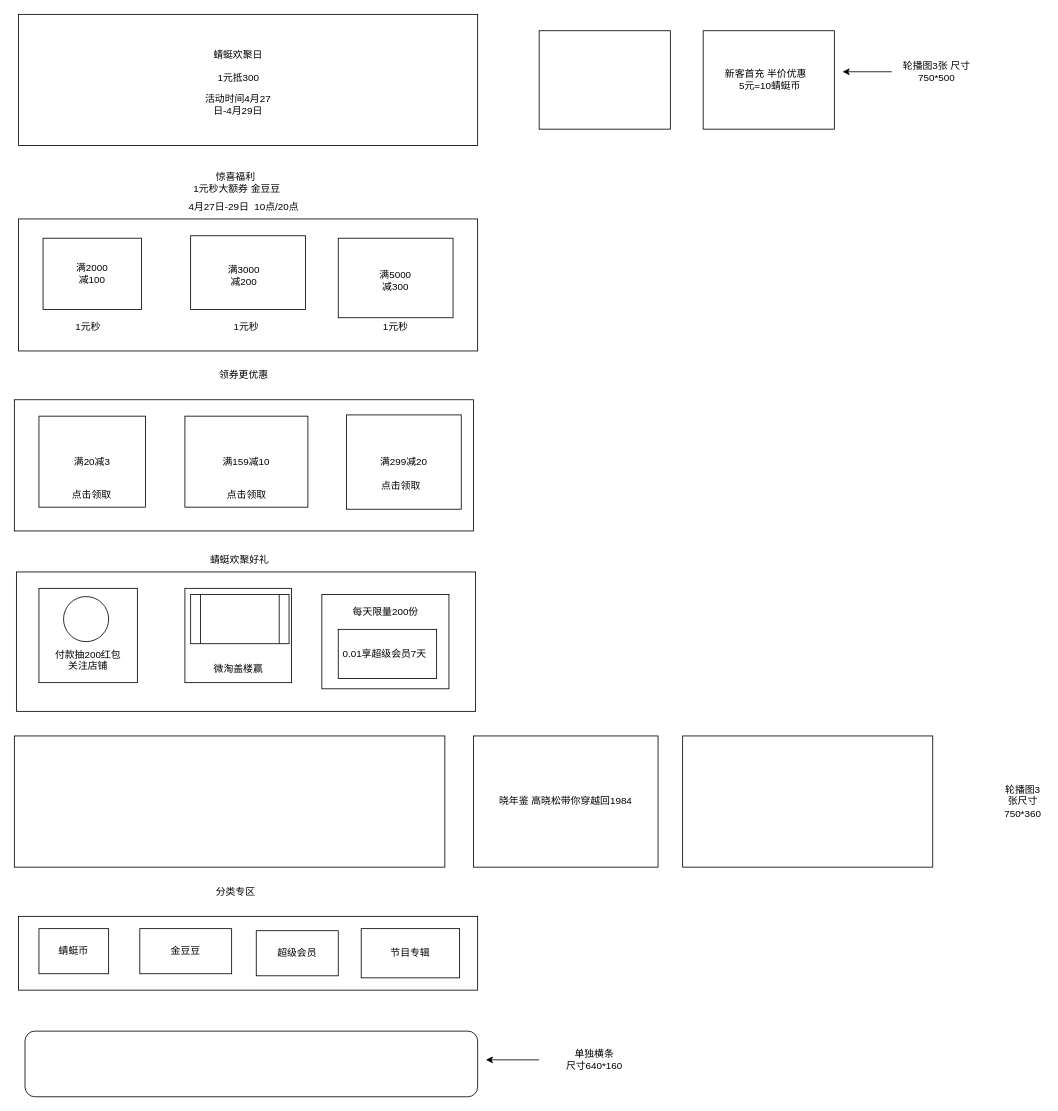
This 1058x1111 diagram has some shape labels left out. Here are the shapes that lost their labels. From the top down, the centre of each, then its label:
At (604,79): "参照法医秦明焦点图改尺寸即可".
At (86,619): "抽奖转盘".
At (239,619): "300元券".
At (229,801): "秦明签名书+蜻蜓会员折扣卡".
At (807,801): "曾仕强论三国智慧".
At (251,1063): "立减专区".
